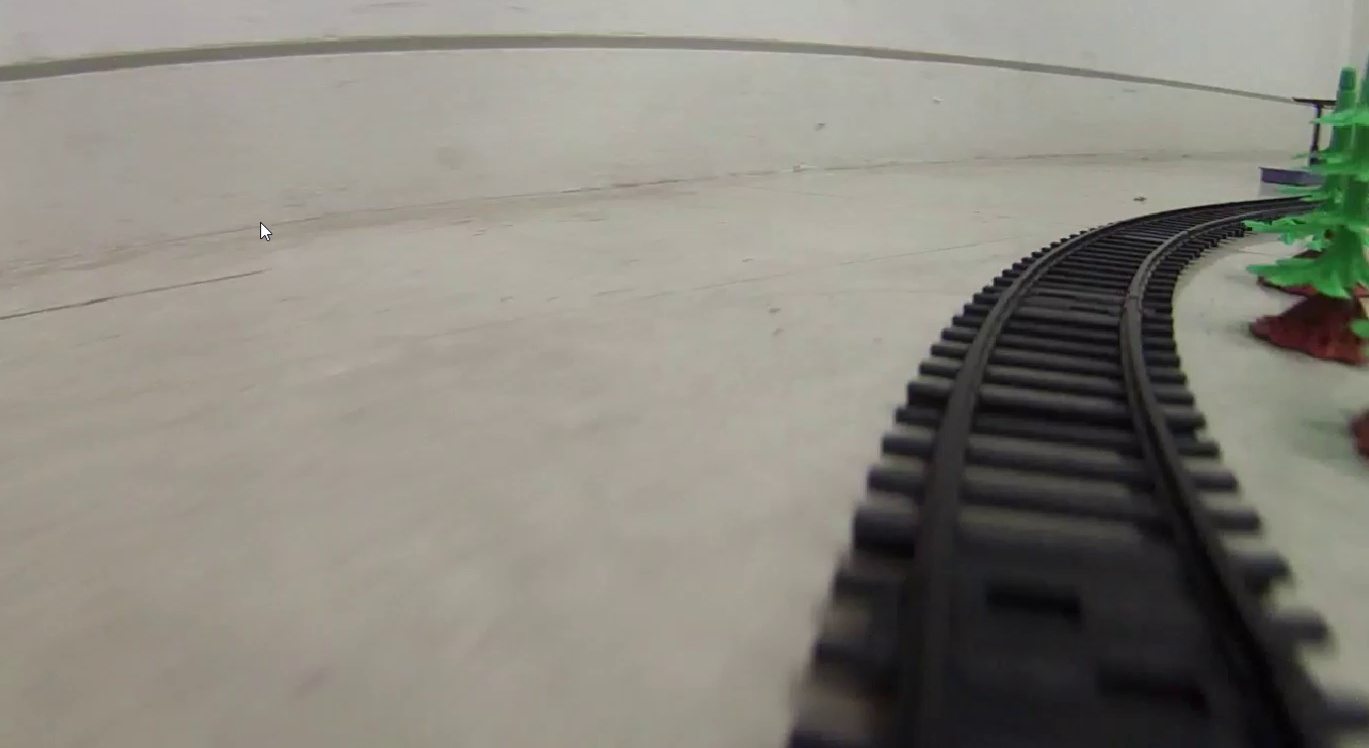tree: (1255, 65, 1369, 370)
